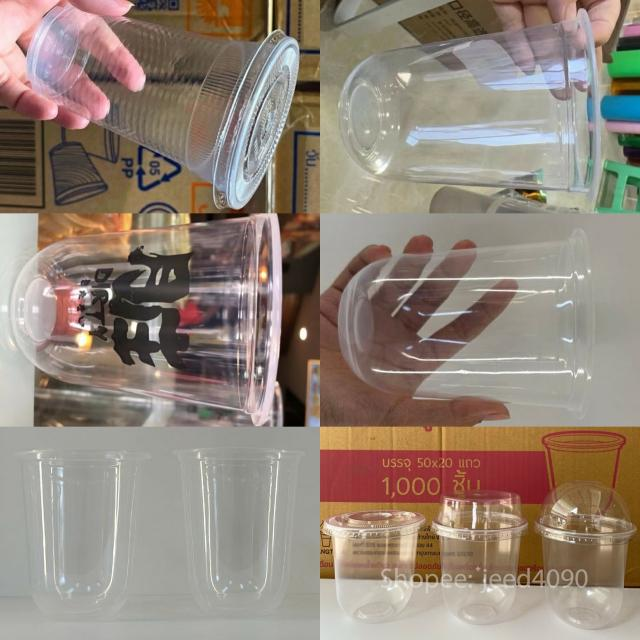Single-Use-Plastic: (11, 215, 281, 424), (26, 5, 299, 208), (338, 229, 594, 418), (339, 14, 599, 197), (16, 449, 150, 619), (175, 448, 305, 615), (534, 481, 637, 629), (432, 490, 528, 624), (323, 510, 425, 622)
